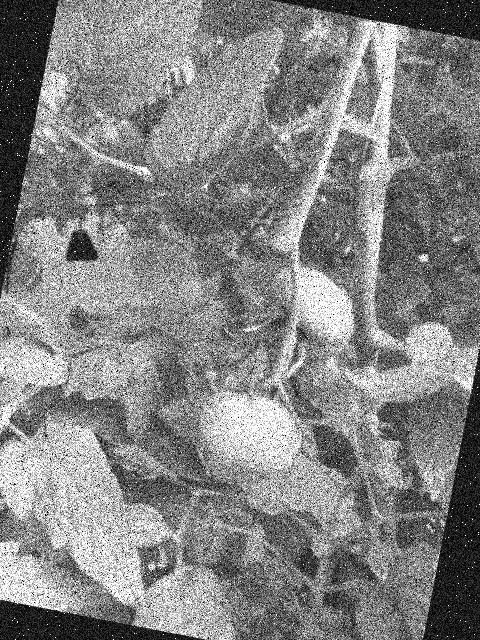b_fully_ripened: (317, 546, 384, 637)
b_green: (253, 260, 363, 370), (190, 385, 310, 483), (281, 330, 362, 408), (189, 344, 259, 408), (198, 448, 265, 491), (366, 412, 382, 431)
b_half_ripened: (254, 504, 328, 597)
